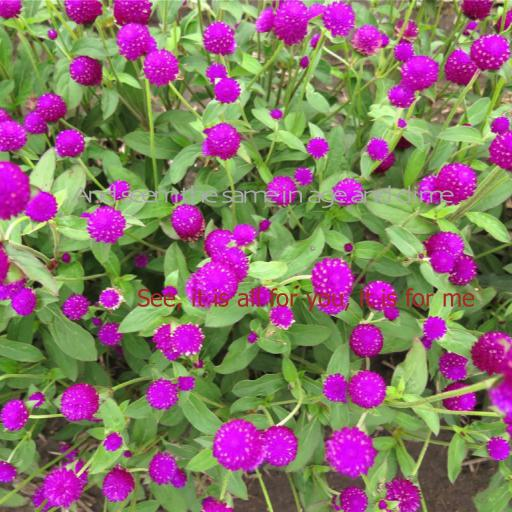Skia: (71, 185, 451, 208)
Tahoma: (137, 288, 475, 312)
